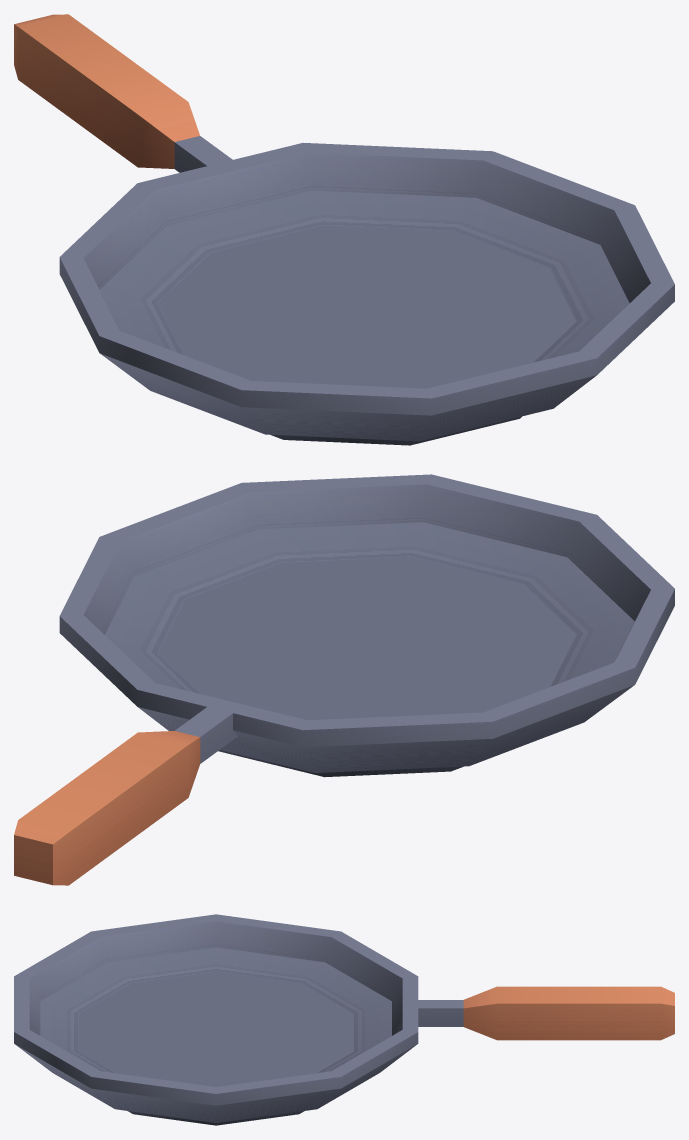
The model's file is frying-pan.glb.
3 renders of one model, top to bottom at view 1: azimuth 30°, elevation 25°; view 2: azimuth 150°, elevation 25°; view 3: azimuth 270°, elevation 25°, orthographic. The views are drawn at different scales.
Visible parts, largest first — view 1: frying-pan; view 2: frying-pan; view 3: frying-pan.
Part boxes in pixels (x1,y1,x2,y2): frying-pan: (14,14,674,445); frying-pan: (14,474,674,885); frying-pan: (14,914,674,1125).
Bounding box in the file's own units: 0.6574 × 0.1206 × 1.02.
1 material, 1 textured.
